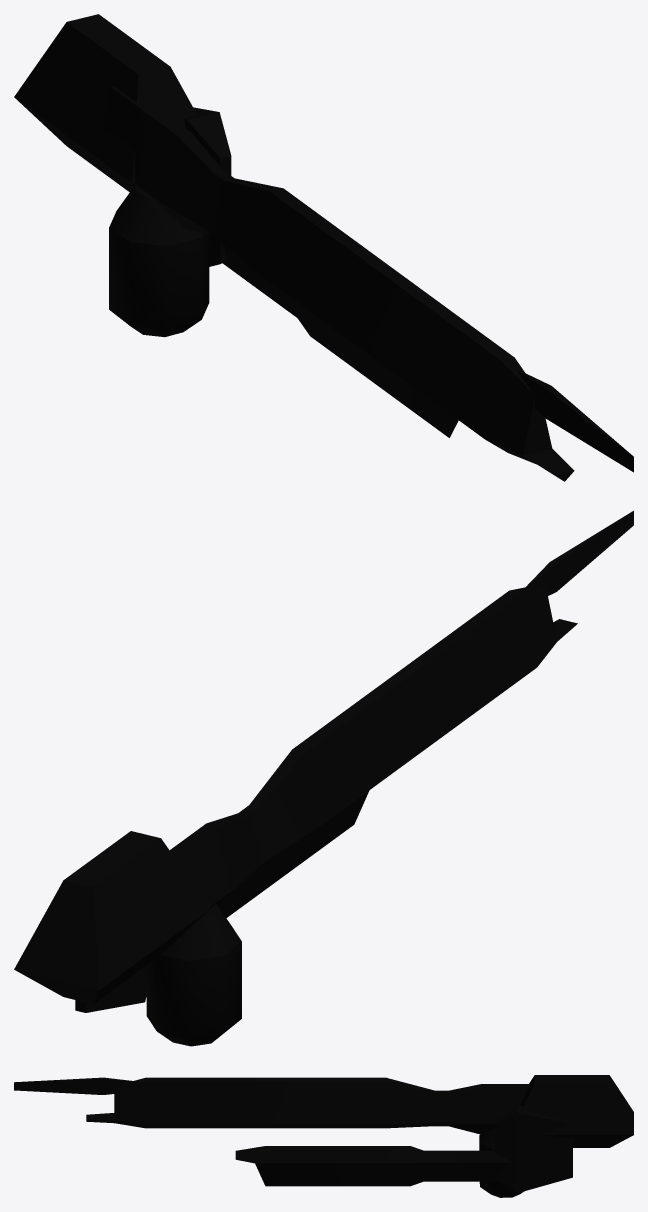
Rendered from sensor_m_03.glb.
The picture shows the model from 3 angles, top to bottom: view 1: azimuth 30°, elevation 25°; view 2: azimuth 150°, elevation 25°; view 3: azimuth 270°, elevation 25°; orthographic projection. The views are drawn at different scales.
Visible parts, largest first — view 1: sensor_m_03_LOD0; view 2: sensor_m_03_LOD0; view 3: sensor_m_03_LOD0.
Boxes of the visible parts, <box> form: sensor_m_03_LOD0: <box>14,14,633,481</box>; sensor_m_03_LOD0: <box>14,510,633,1046</box>; sensor_m_03_LOD0: <box>14,1075,633,1197</box>.
Bounding box in the file's own units: 0.3189 × 0.6202 × 2.85.
Materials: 1 (1 with a texture image).
